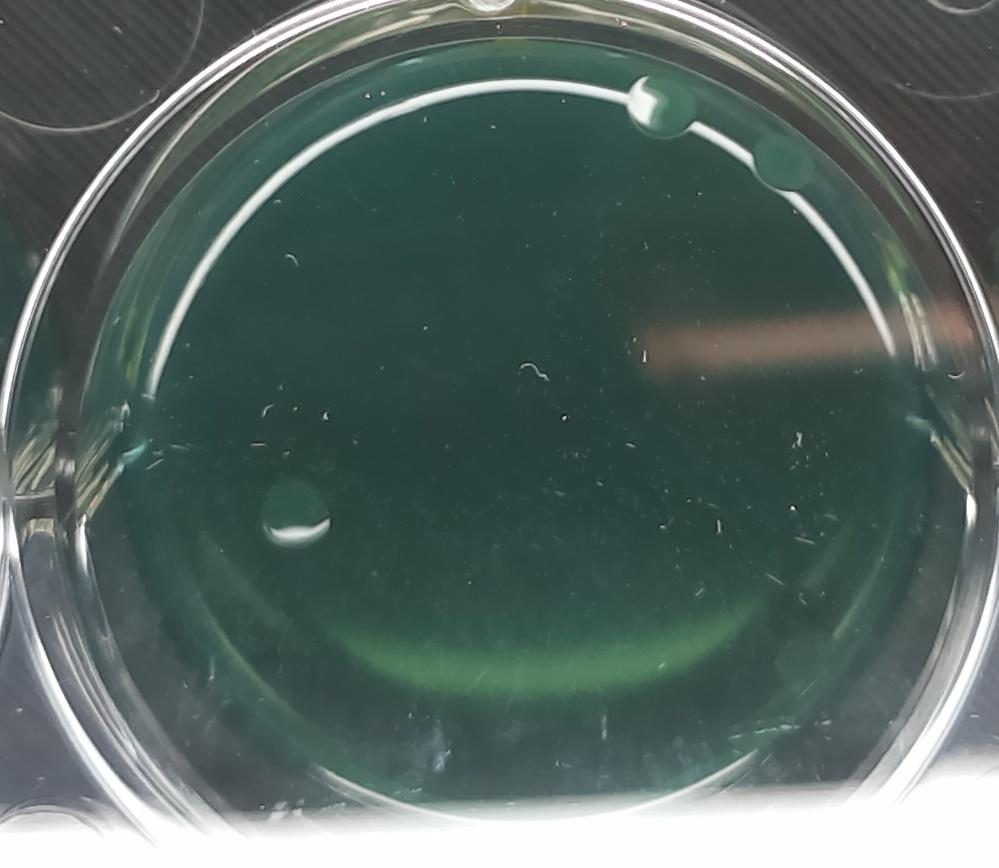vproteolyticus: (249, 465, 338, 561), (616, 66, 699, 146), (746, 128, 821, 199)
